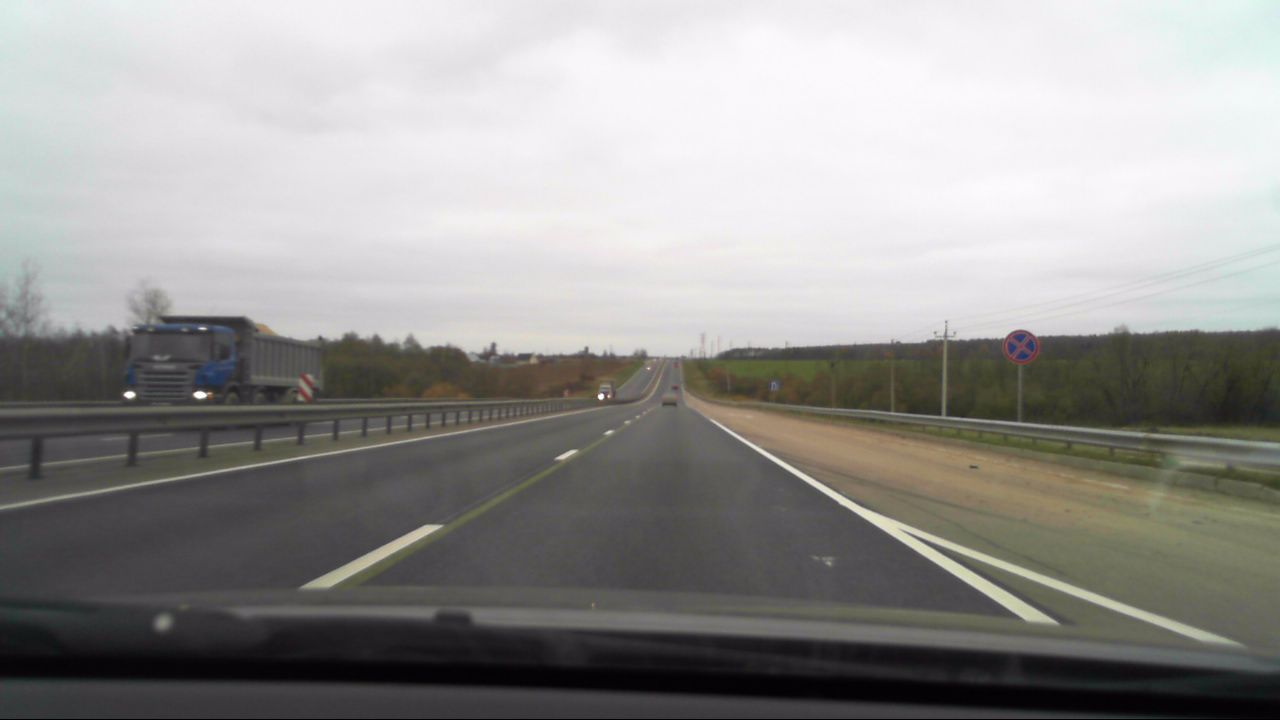No Parking: (1003, 328, 1040, 364)
